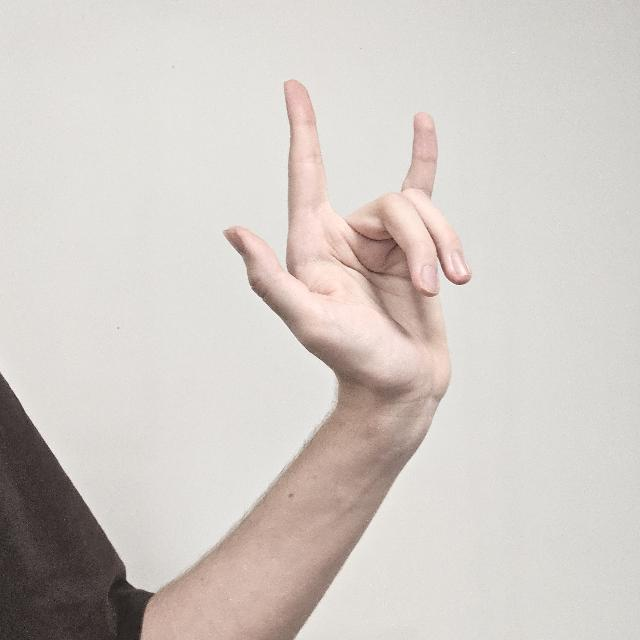Cima: (224, 76, 472, 418)
